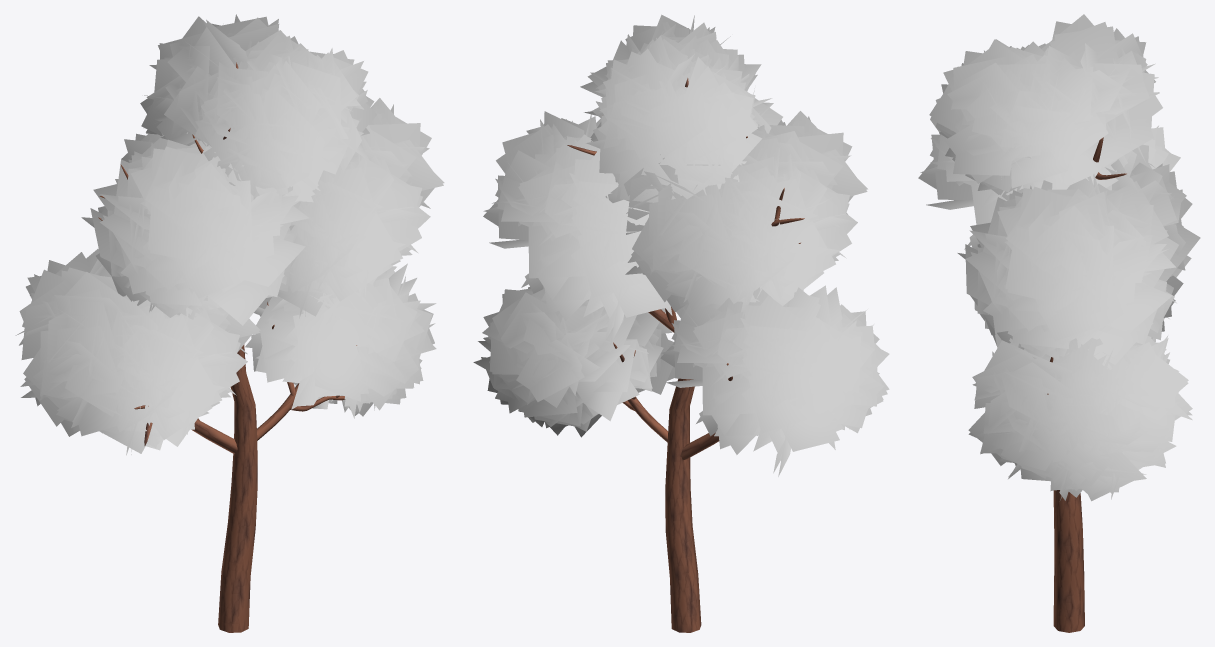
Rendered from q_tree_b.fbx.
The picture shows the model from 3 angles, left to right: view 1: azimuth 30°, elevation 25°; view 2: azimuth 150°, elevation 25°; view 3: azimuth 270°, elevation 25°; orthographic projection. The views are drawn at different scales.
Visible parts, largest first — view 1: q_tree_b; view 2: q_tree_b; view 3: q_tree_b.
Part boxes in pixels (left/top/right/bottom): q_tree_b: left=15, top=14, right=444, bottom=632; q_tree_b: left=473, top=14, right=889, bottom=632; q_tree_b: left=918, top=14, right=1200, bottom=632.
Bounding box in the file's own units: 0.6947 × 1 × 0.425.
